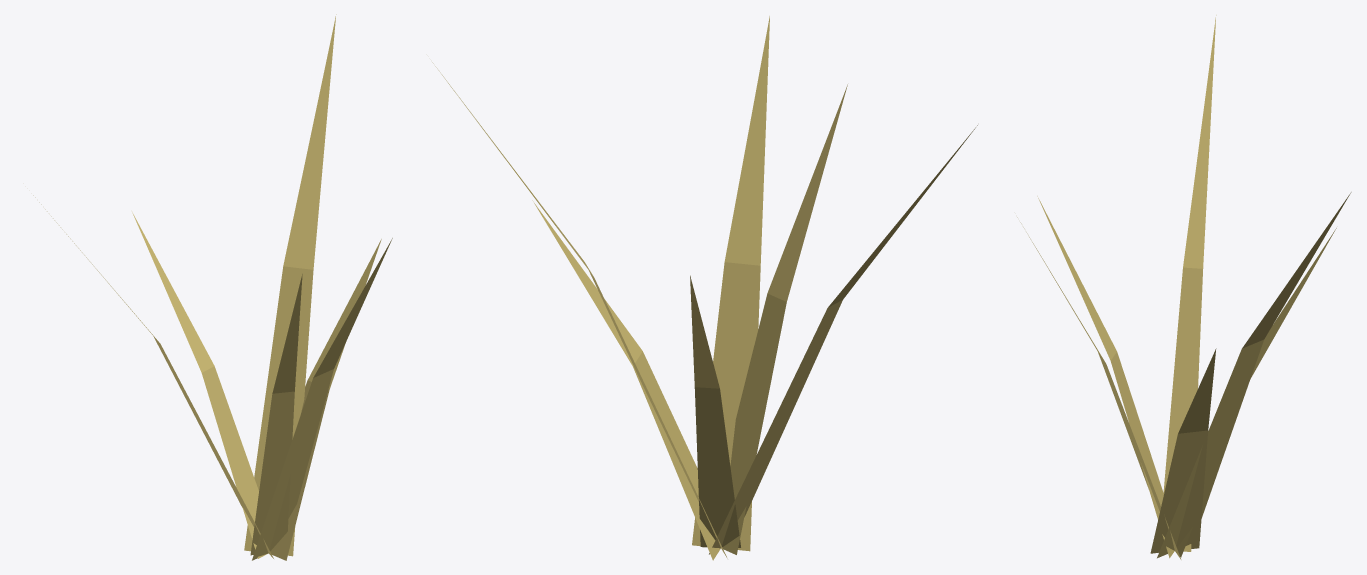
3 views of the same model, side by side, from view 1: azimuth 30°, elevation 25°; view 2: azimuth 150°, elevation 25°; view 3: azimuth 270°, elevation 25° (orthographic). The views are drawn at different scales.
Parts seen in each view (by area): view 1: 草_03; view 2: 草_03; view 3: 草_03.
Boxes of the visible parts, x1,y1,x2,y2 form: 草_03: [33, 14, 392, 560]; 草_03: [432, 16, 977, 560]; 草_03: [1017, 15, 1351, 559].
Size of the model in its own units: 0.39 by 0.4172 by 0.2967.
